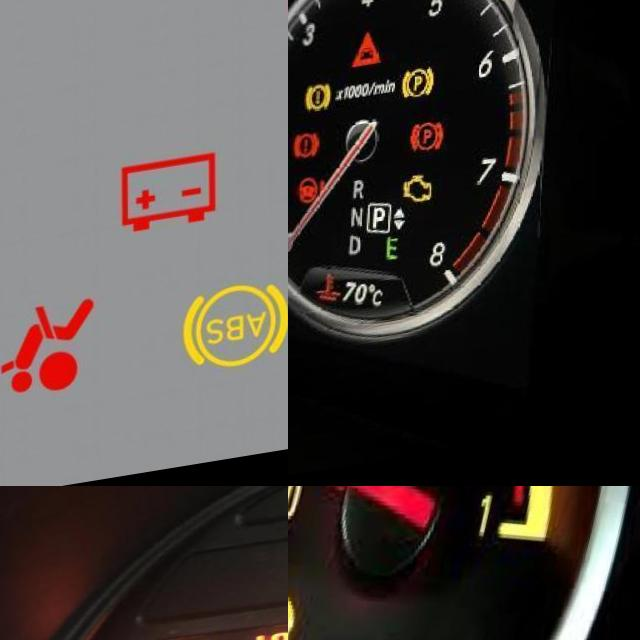Engine cooling system: (312, 279, 341, 316)
